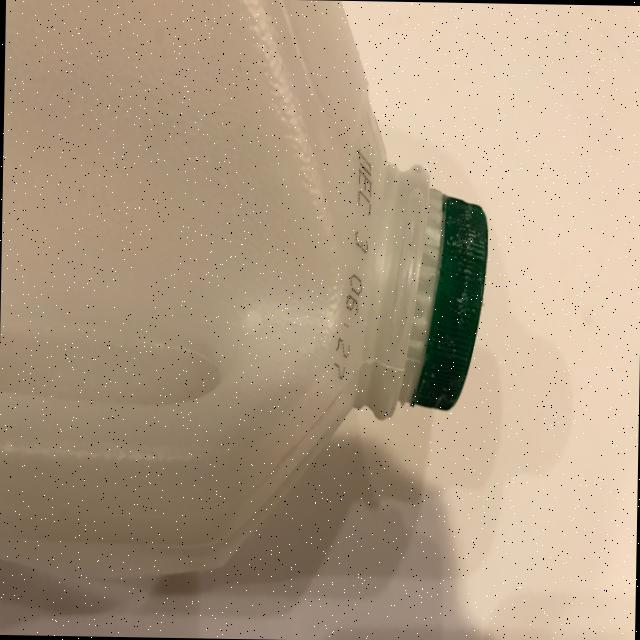plastic: (0, 0, 492, 584)
